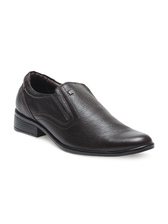shoes: (12, 71, 158, 157)
